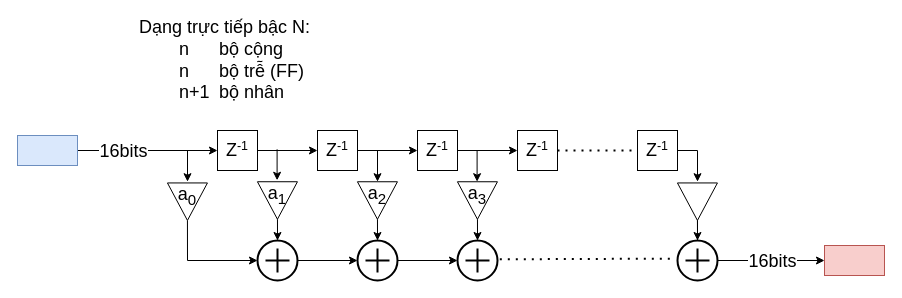
Image size: 902x298. Some labels were removed from this diagram. The centre of each missing label's shape, as x and y in pixels:
"a n" goes at [697,201].
"x(n)" goes at [47,150].
"y(n)" goes at [854,260].
